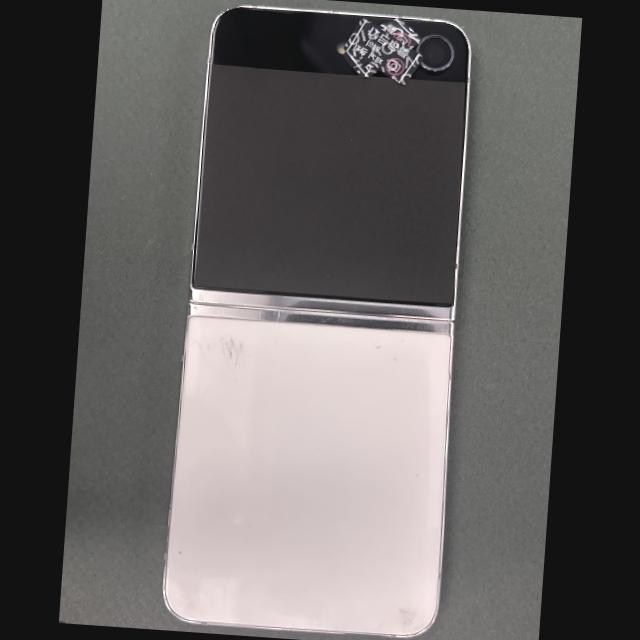lens: (415, 34, 454, 71)
phone: (163, 7, 469, 636)
sticker: (343, 18, 423, 85), (378, 17, 419, 48)
